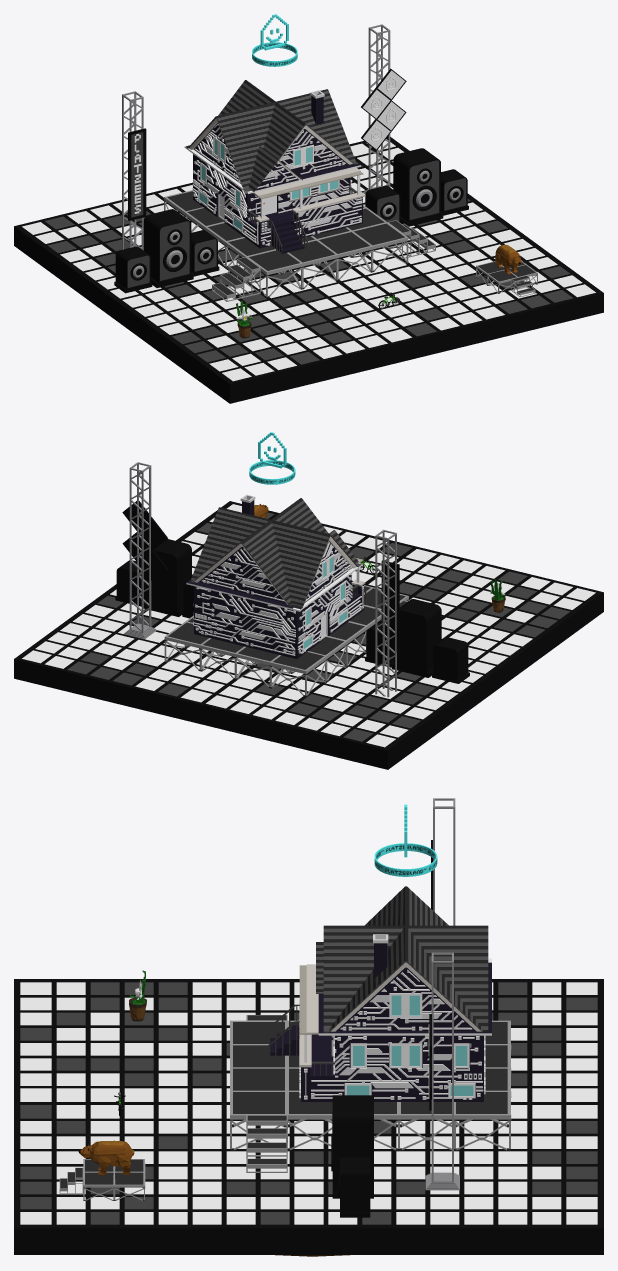
3 renders of one model, top to bottom at view 1: azimuth 30°, elevation 25°; view 2: azimuth 150°, elevation 25°; view 3: azimuth 270°, elevation 25°, orthographic. The views are drawn at different scales.
Visible parts, largest first — view 1: Cube.008, Cube.918, TYPE_PREMIUM, ANIMAL_OSO; view 2: Cube.008, Cube.918, TYPE_PREMIUM; view 3: Cube.008, Cube.918, ANIMAL_OSO, TYPE_PREMIUM.
Part boxes in pixels (bbox=[...]): Cube.008: bbox=[14, 24, 603, 403]; Cube.918: bbox=[184, 80, 365, 254]; TYPE_PREMIUM: bbox=[252, 14, 297, 66]; ANIMAL_OSO: bbox=[495, 244, 522, 274]; Cube.008: bbox=[14, 462, 603, 769]; Cube.918: bbox=[186, 494, 366, 658]; TYPE_PREMIUM: bbox=[249, 432, 295, 484]; Cube.008: bbox=[14, 798, 603, 1254]; Cube.918: bbox=[268, 886, 491, 1101]; ANIMAL_OSO: bbox=[78, 1140, 134, 1175]; TYPE_PREMIUM: bbox=[374, 804, 437, 876].
Bounding box in the file's own units: 4000 × 2578 × 4000.
Materials: 44 (2 with a texture image).
